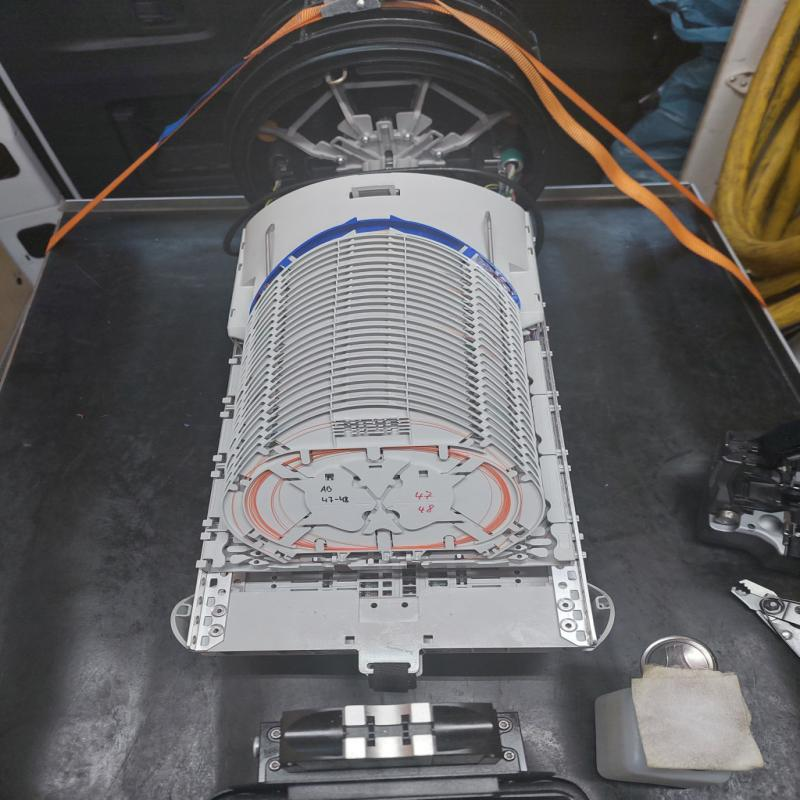NT-Muffen: (190, 10, 610, 774)
